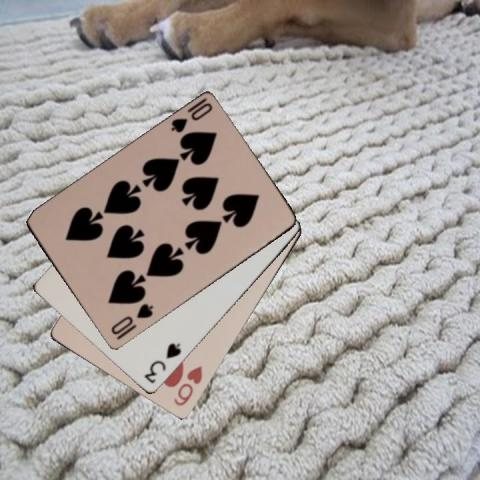10s: (108, 300, 155, 336), (167, 100, 214, 135)
3s: (141, 341, 183, 385)
6h: (171, 363, 204, 408)
